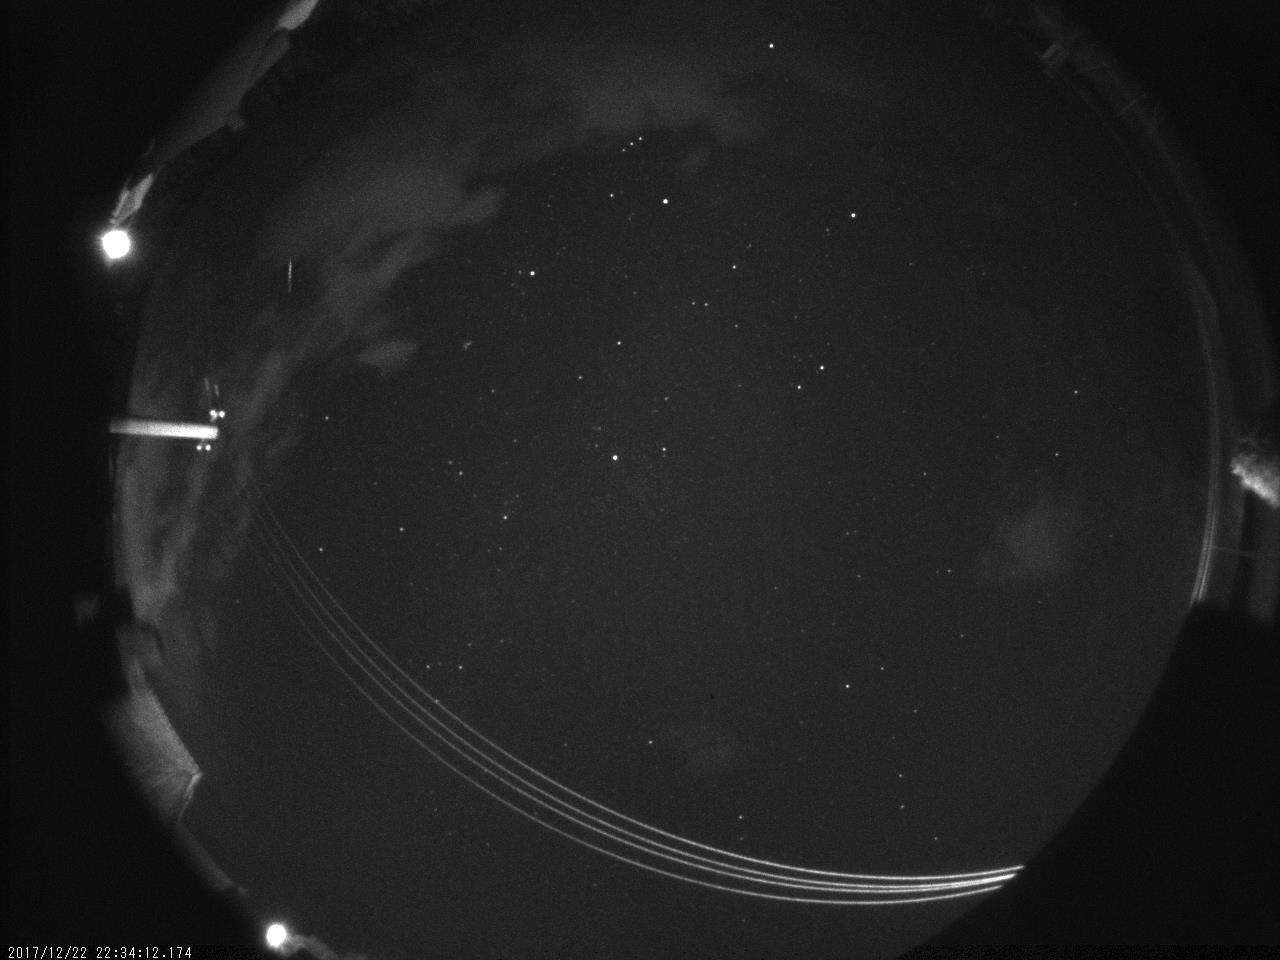meteor: (273, 250, 309, 302)
